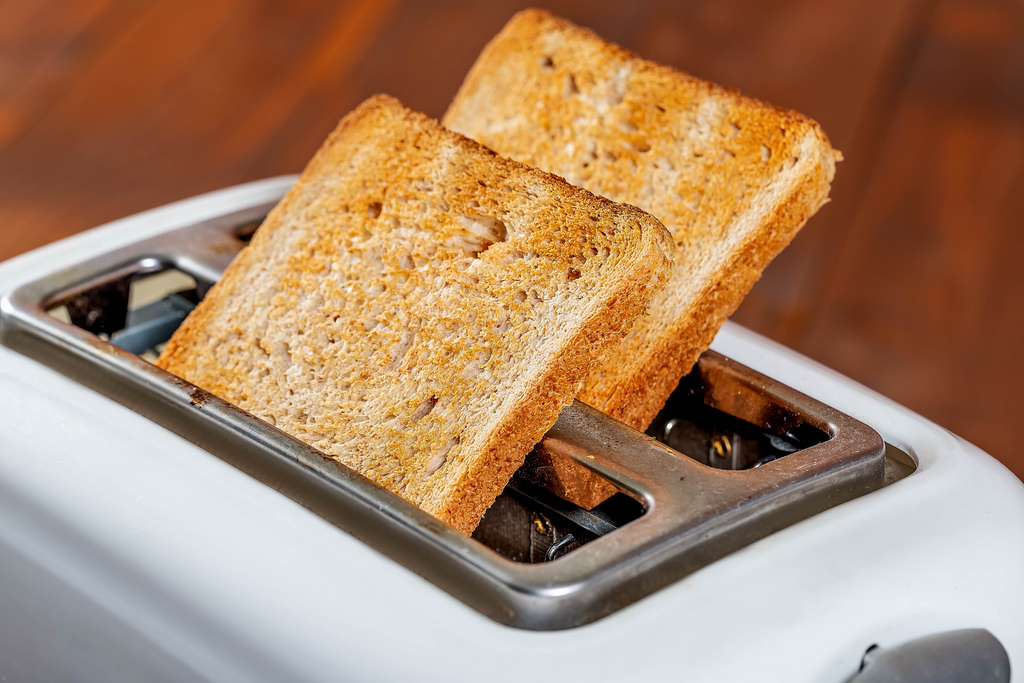slice of bread: (161, 77, 680, 557), (429, 14, 846, 527)
